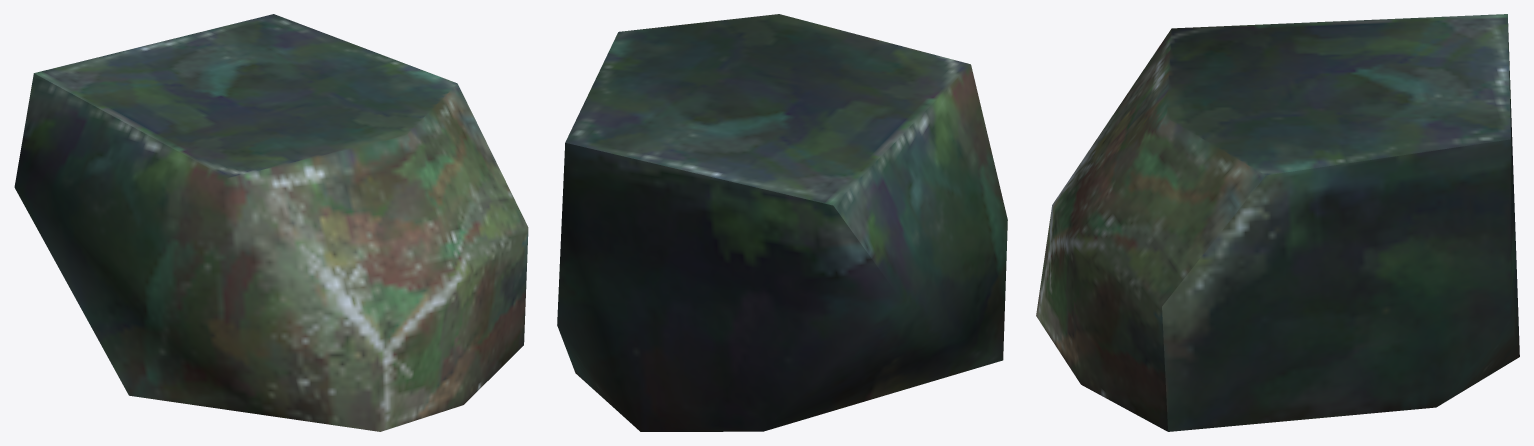
The model's file is tinyrock4.fbx.
The picture shows the model from 3 angles, left to right: view 1: azimuth 30°, elevation 25°; view 2: azimuth 150°, elevation 25°; view 3: azimuth 270°, elevation 25°; orthographic projection. The views are drawn at different scales.
Visible parts, largest first — view 1: tinyrocks_3; view 2: tinyrocks_3; view 3: tinyrocks_3.
Boxes of the visible parts, x1,y1,x2,y2 form: tinyrocks_3: (14,14,528,431); tinyrocks_3: (557,14,1007,431); tinyrocks_3: (1036,14,1519,431).
Size of the model in its own units: 53.22 by 33.76 by 56.88.
